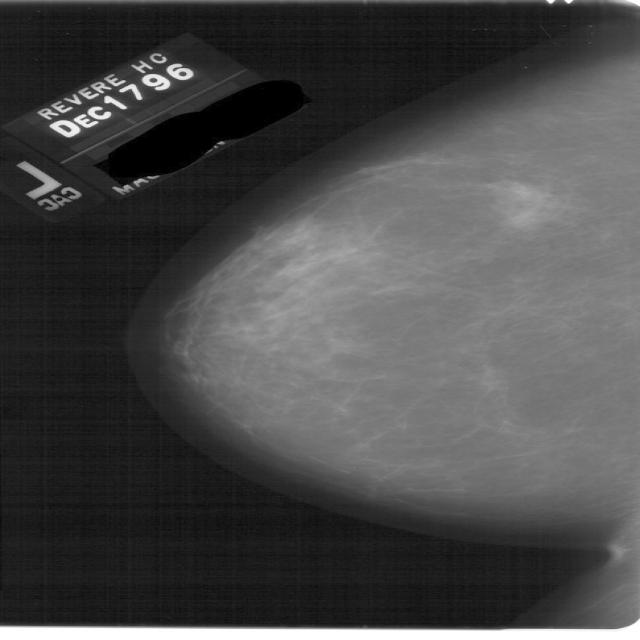tumour: (495, 178, 554, 226)
